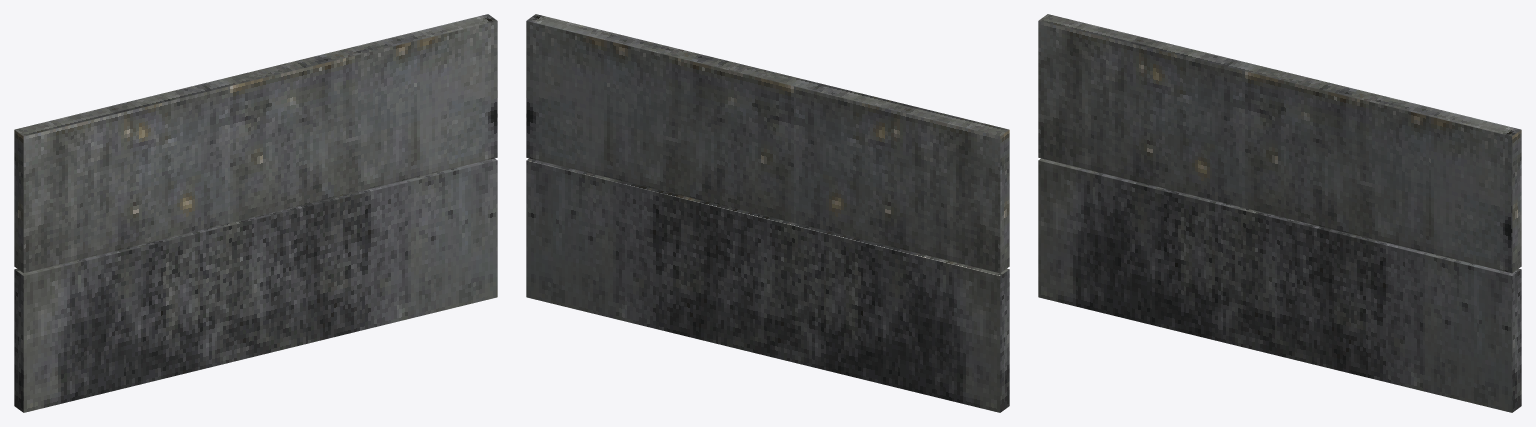
The model's file is plackard_slab_half.glb.
3 renders of one model, left to right at view 1: azimuth 30°, elevation 25°; view 2: azimuth 150°, elevation 25°; view 3: azimuth 330°, elevation 25°, orthographic.
Parts seen in each view (by area): view 1: plackard_slab_half; view 2: plackard_slab_half; view 3: plackard_slab_half.
Boxes of the visible parts, x1,y1,x2,y2 form: plackard_slab_half: [14, 14, 497, 412]; plackard_slab_half: [526, 14, 1009, 412]; plackard_slab_half: [1038, 14, 1521, 412].
Bounding box in the file's own units: 3.62 × 2.02 × 0.125.
Materials: 1 (1 with a texture image).
